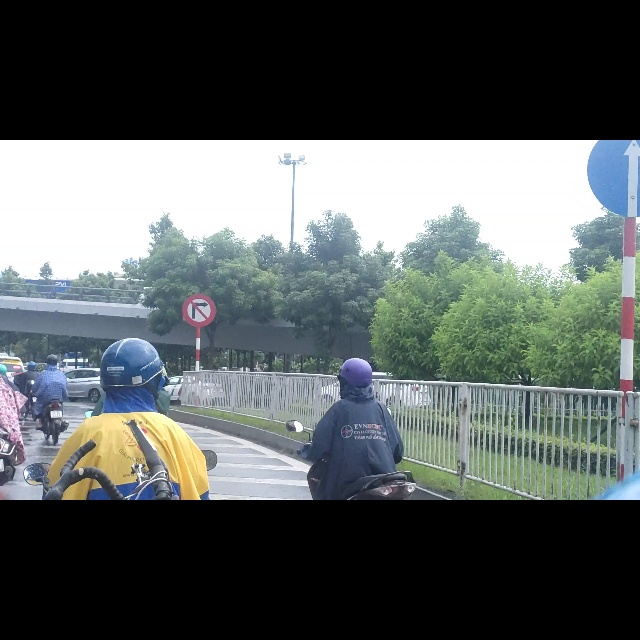bien_cam: (588, 1, 640, 138), (181, 272, 216, 330)
